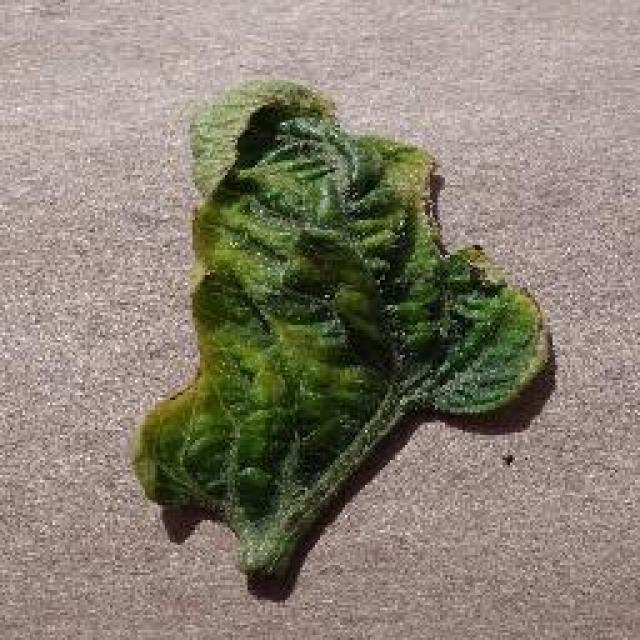Tomato yellow virus leaf: (130, 84, 548, 578)
